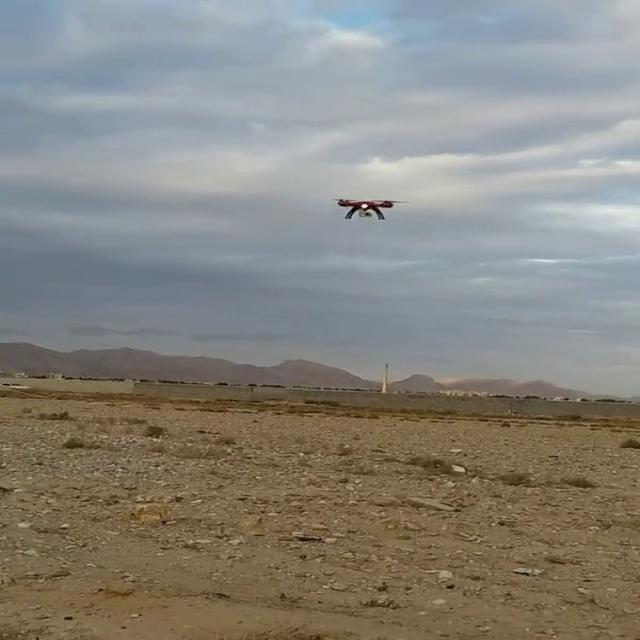drone: (330, 195, 408, 223)
